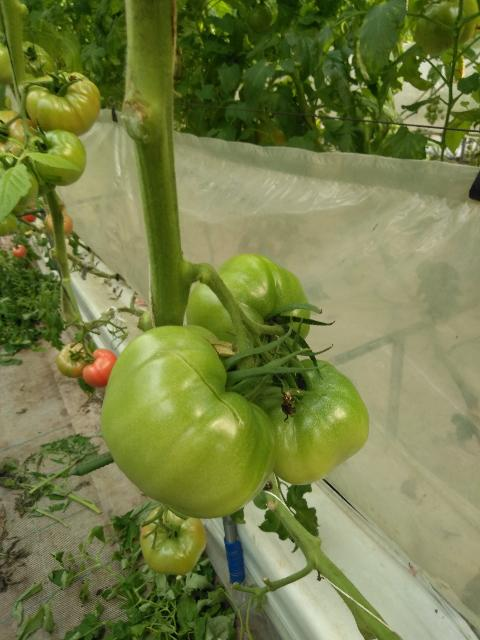b_green: (99, 325, 276, 519), (243, 358, 369, 485), (186, 252, 311, 373), (25, 70, 101, 137), (139, 504, 207, 575), (30, 130, 88, 187), (23, 41, 55, 79), (0, 213, 18, 237)
b_half_ripened: (0, 111, 40, 164), (83, 348, 118, 388), (56, 342, 91, 377), (45, 212, 73, 236)
